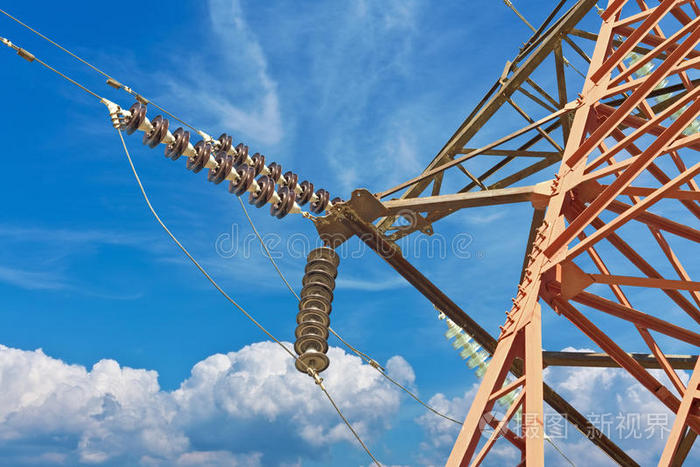insulator: (123, 103, 295, 219), (216, 134, 329, 214), (446, 320, 528, 422), (294, 248, 344, 374), (631, 55, 700, 135)
